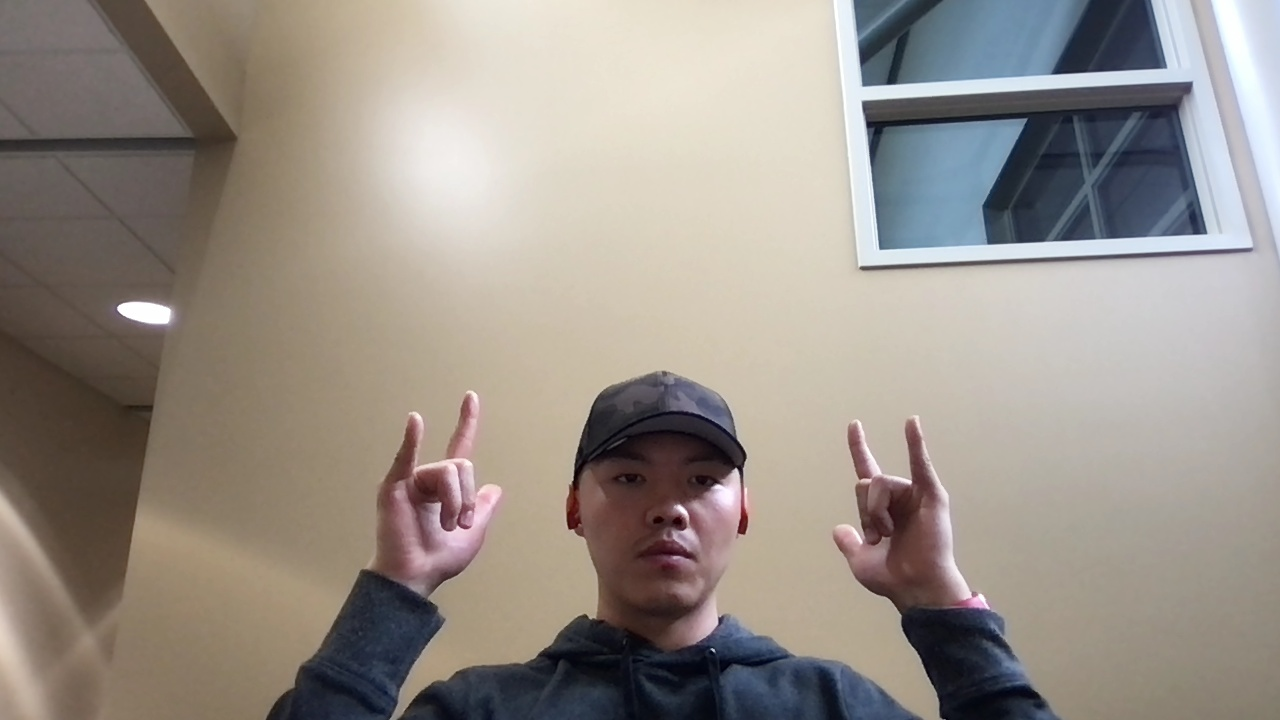I Love You: (376, 389, 508, 597), (832, 411, 969, 610)
